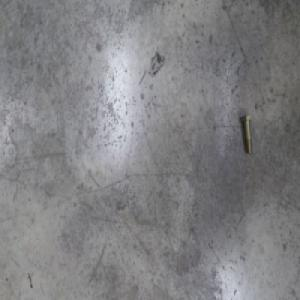Bolt: (240, 113, 252, 155)
